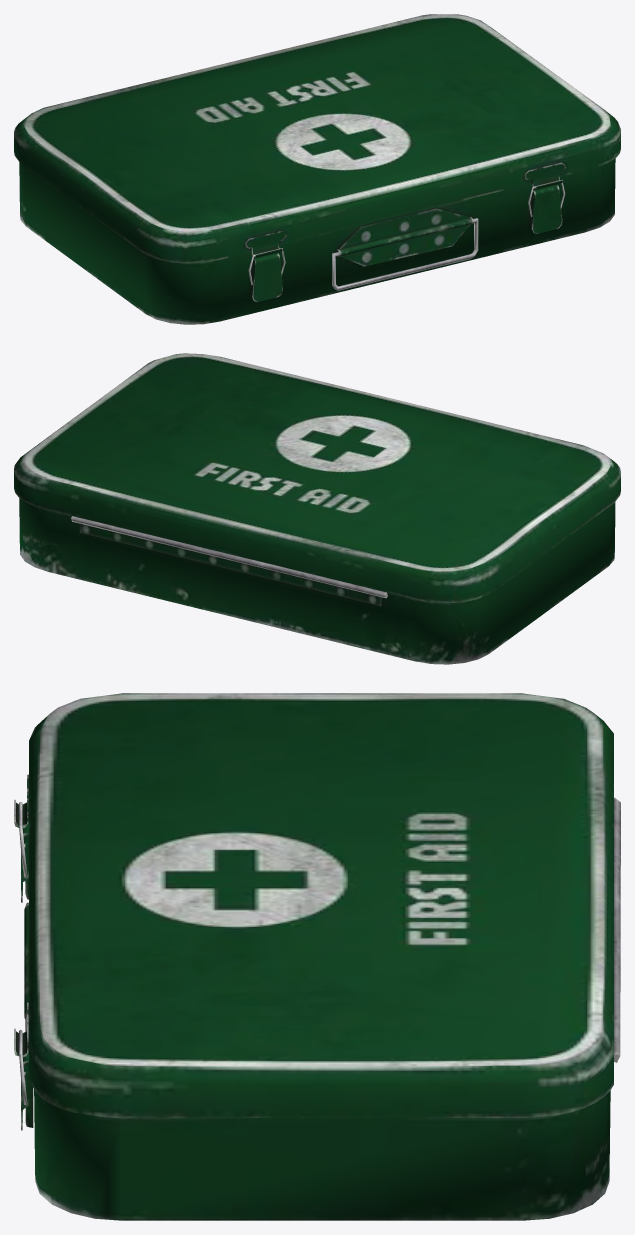
The model's file is scene-medical.glb.
3 renders of one model, top to bottom at view 1: azimuth 30°, elevation 25°; view 2: azimuth 150°, elevation 25°; view 3: azimuth 270°, elevation 25°, orthographic. The views are drawn at different scales.
Visible parts, largest first — view 1: medical_box_latch; view 2: medical_box_latch; view 3: medical_box_latch.
Part boxes in pixels (x1=…): medical_box_latch: x1=14, y1=14, x2=620, y2=324; medical_box_latch: x1=14, y1=353, x2=620, y2=664; medical_box_latch: x1=14, y1=693, x2=620, y2=1220.
Size of the model in its own units: 0.5255 by 0.0967 by 0.3501.
1 material, 1 textured.
